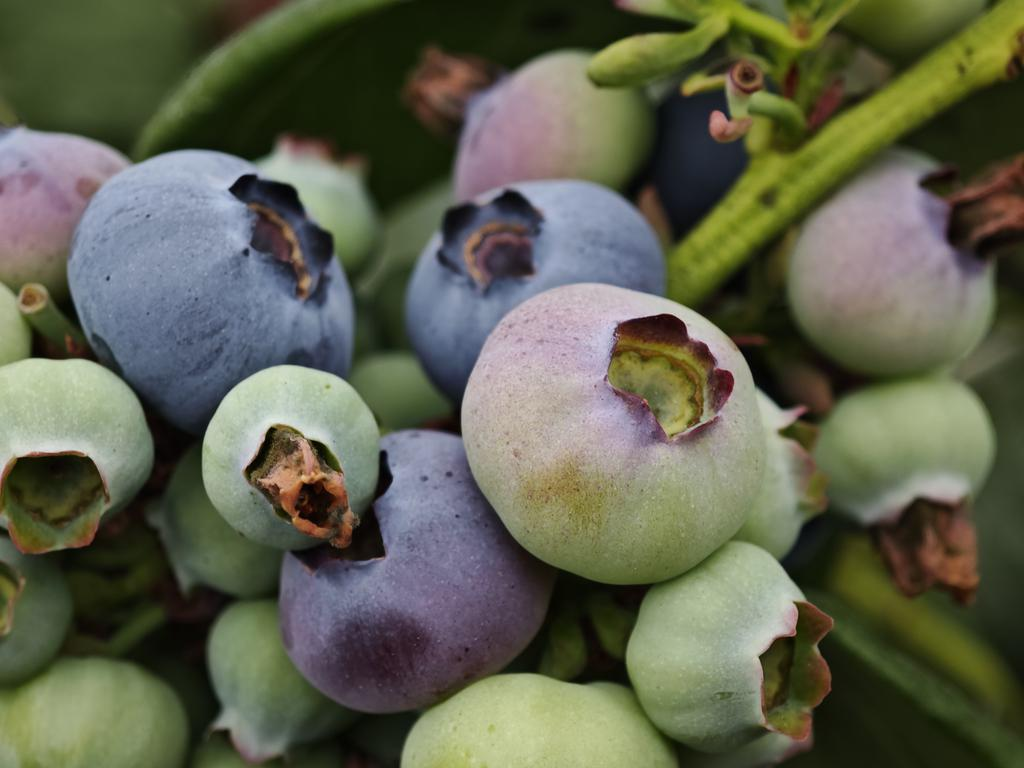RipeBlueBerry: (65, 144, 362, 421)
Semi-RipeBlueBerry: (277, 430, 552, 717)
UnripeBlueBerry: (462, 279, 770, 589)
